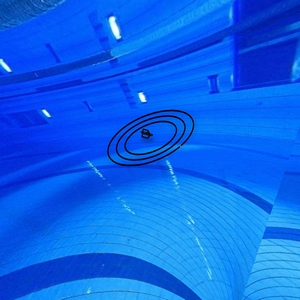circle: (104, 106, 199, 172)
submarine: (138, 127, 158, 142)
